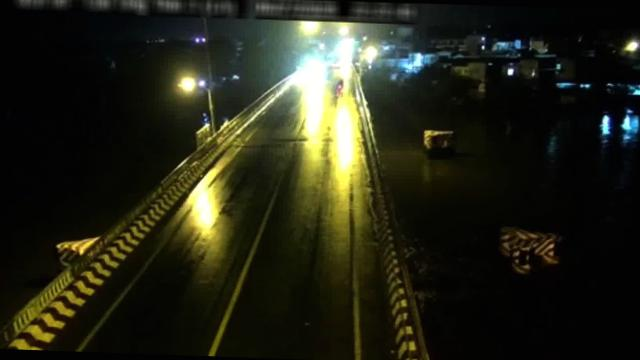Bike: (334, 77, 344, 96)
